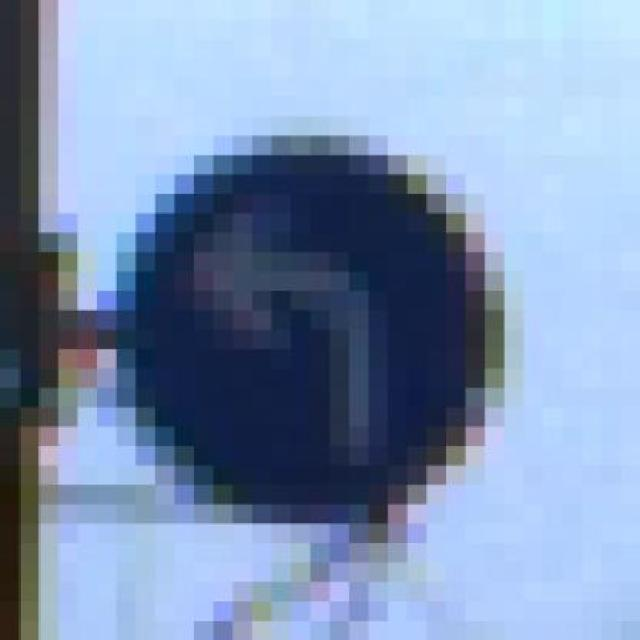Turn left ahead: (116, 97, 524, 543)
